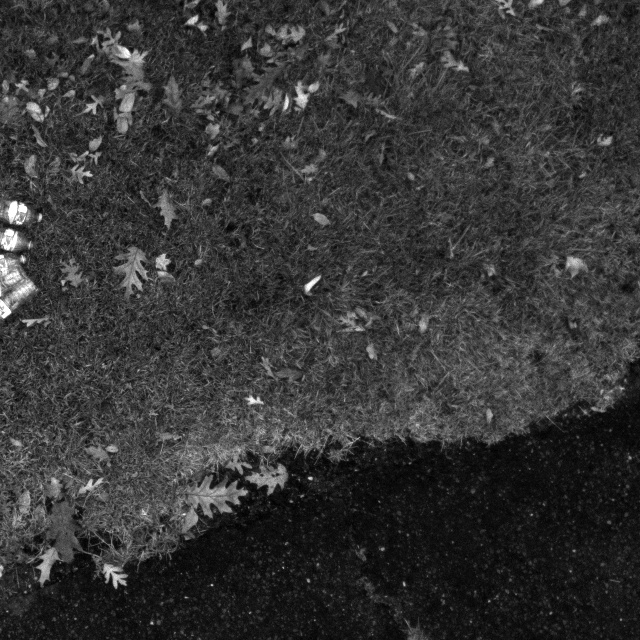bottle: (0, 186, 61, 231)
